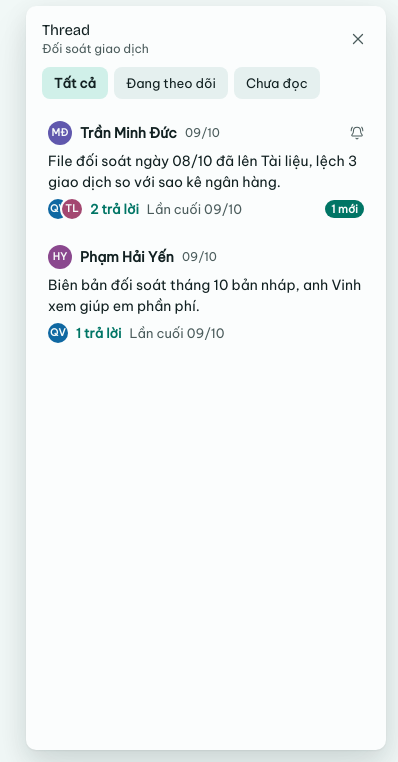
ThreadsPanel › says which filter is empty (the server sends no messages field at all) and offers all threads
expect the list named "Thread" is shown: met, box [30,109,382,355]
Click the radio button labelled "Đang theo dõi": (171, 83) [114,67,228,99]
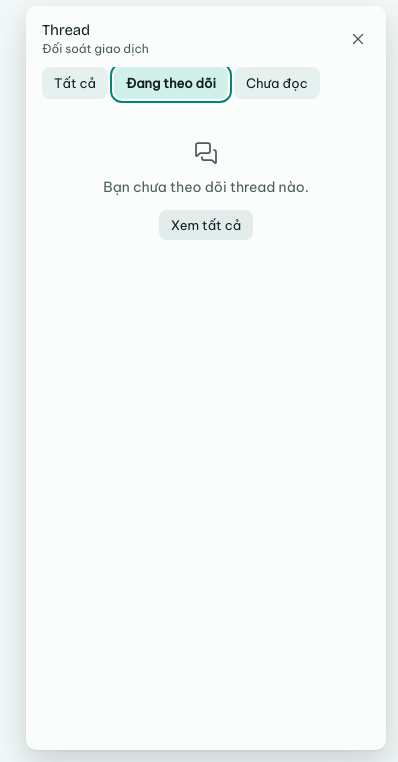
expect the text "Bạn chưa theo dõi thread nào." is shown: met, box [103,177,309,198]
Click the button "Xem tất cả": (206, 225) [159,210,253,240]
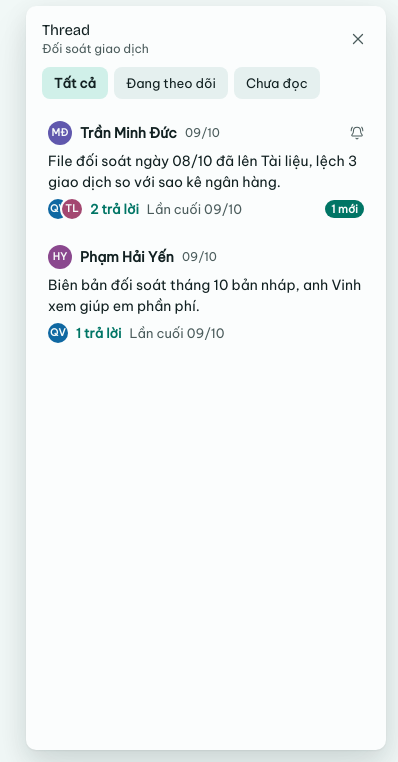
expect the list named "Thread" is shown: met, box [30,109,382,355]
